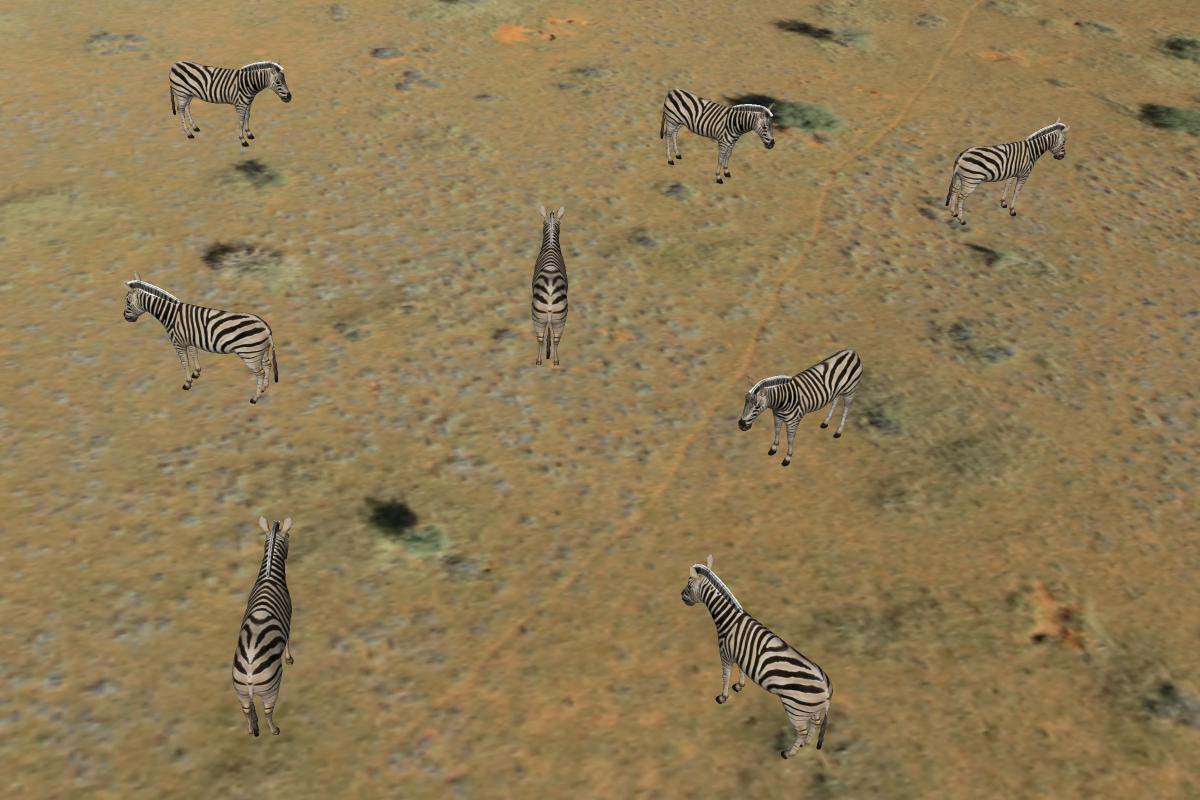zebra: (678, 548, 848, 765), (119, 267, 288, 412), (228, 510, 315, 744), (736, 348, 877, 481), (938, 115, 1080, 229), (163, 48, 309, 154), (646, 79, 775, 194), (517, 200, 584, 363)
